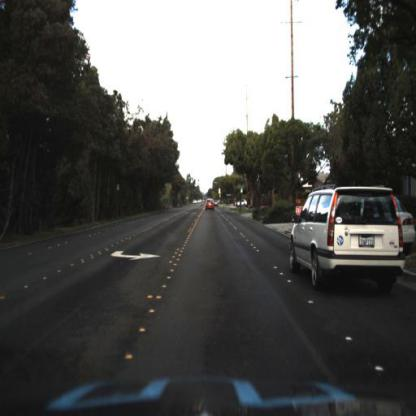car: (288, 180, 411, 292), (233, 195, 251, 211), (204, 195, 216, 216), (235, 195, 250, 211)
